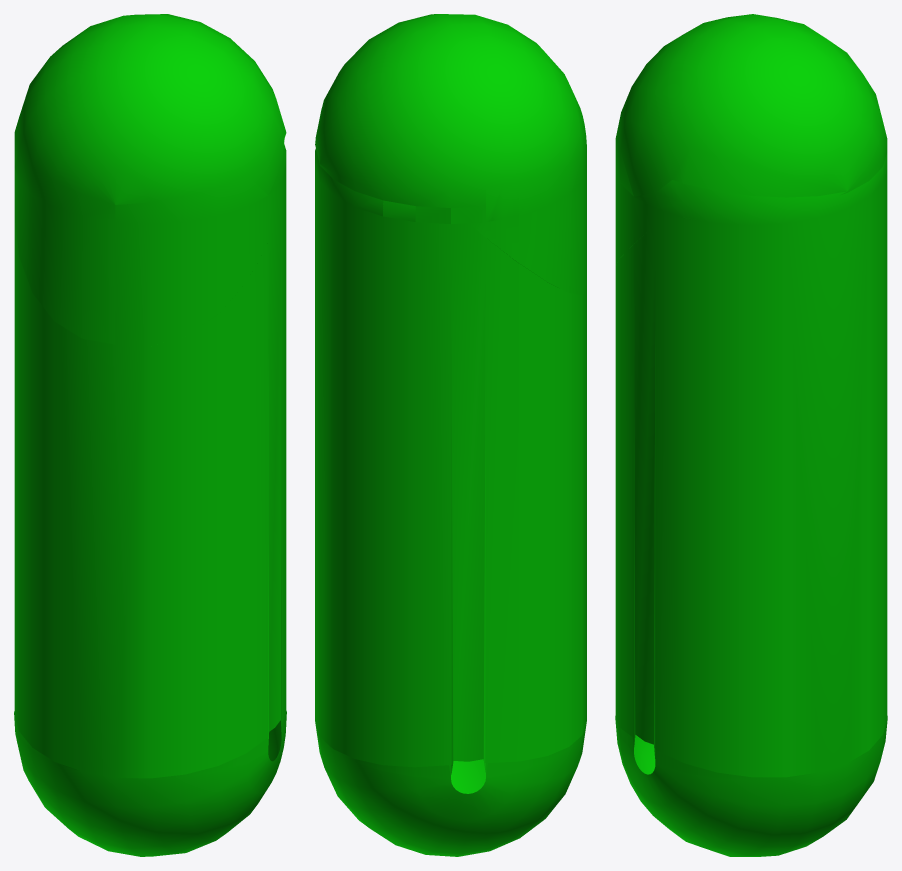
The model's file is Uranium.dae.
3 renders of one model, left to right at view 1: azimuth 30°, elevation 25°; view 2: azimuth 150°, elevation 25°; view 3: azimuth 270°, elevation 25°, orthographic.
Parts seen in each view (by area): view 1: Group_1; view 2: Group_1; view 3: Group_1.
Part boxes in pixels (x1,y1,x2,y2): Group_1: (14,14,286,856); Group_1: (315,14,586,856); Group_1: (615,14,887,856).
Size of the model in its own units: 52.22 by 52.29 by 173.
